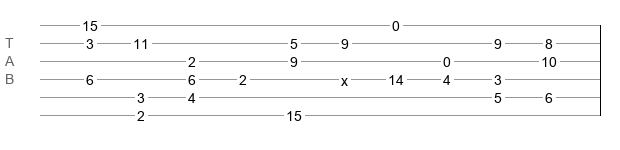0: (392, 18, 400, 28), (443, 54, 451, 64)
10: (541, 54, 557, 64)
11: (133, 36, 149, 46)
14: (388, 72, 404, 82)
15: (82, 18, 98, 28), (286, 108, 302, 118)
2: (137, 108, 145, 118), (188, 54, 196, 64), (239, 72, 247, 82)
3: (86, 36, 94, 46), (137, 90, 145, 100), (494, 72, 502, 82)
4: (188, 90, 196, 100), (443, 72, 451, 82)
5: (290, 36, 298, 46), (494, 90, 502, 100)
6: (86, 72, 94, 82), (188, 72, 196, 82), (545, 90, 553, 100)
8: (545, 36, 553, 46)
9: (290, 54, 298, 64), (341, 36, 349, 46), (494, 36, 502, 46)
x: (341, 73, 348, 81)
